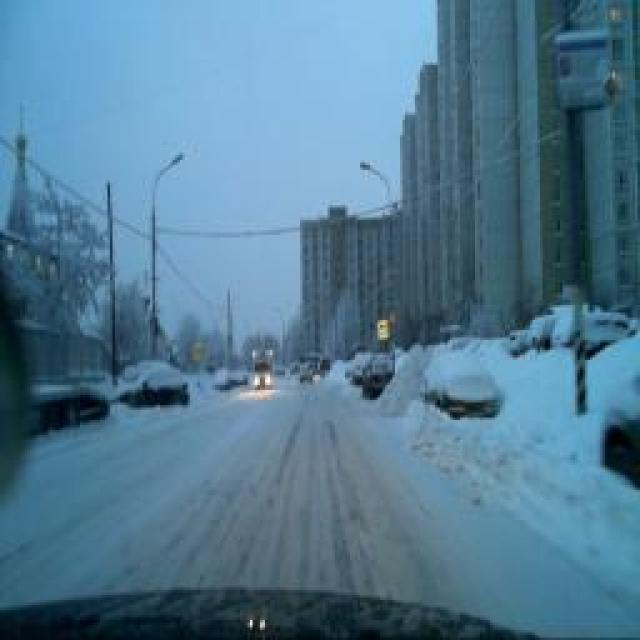sign: (376, 319, 389, 341), (193, 345, 205, 365)
